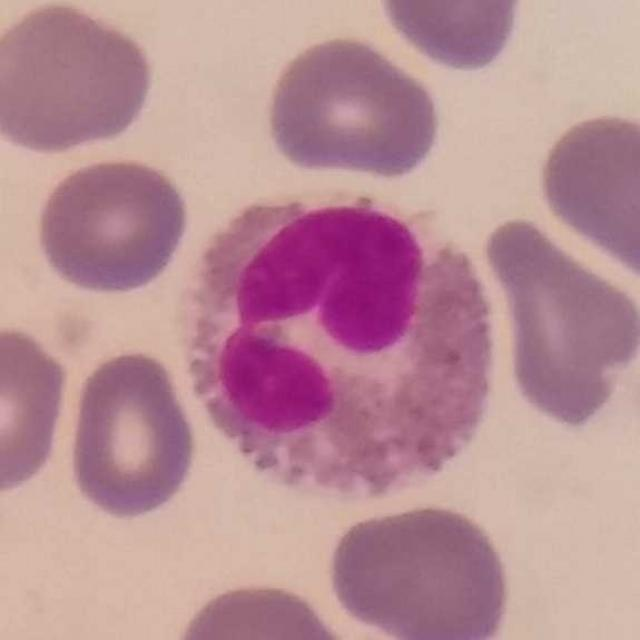Eosinophil: (179, 185, 502, 506)
RBC: (477, 209, 640, 433), (258, 30, 446, 184), (323, 498, 516, 640), (0, 0, 160, 158), (62, 345, 200, 524), (30, 152, 194, 298), (532, 106, 640, 288), (0, 319, 73, 501), (166, 574, 362, 640), (372, 0, 530, 76)
